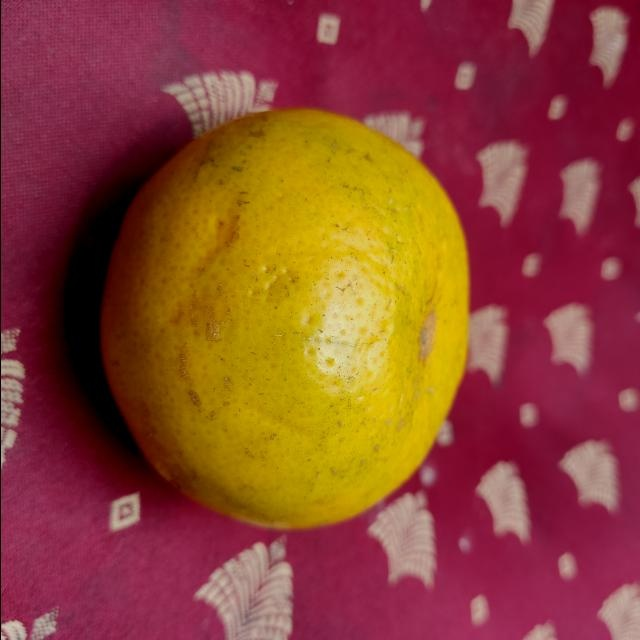agrume: (99, 103, 469, 528)
